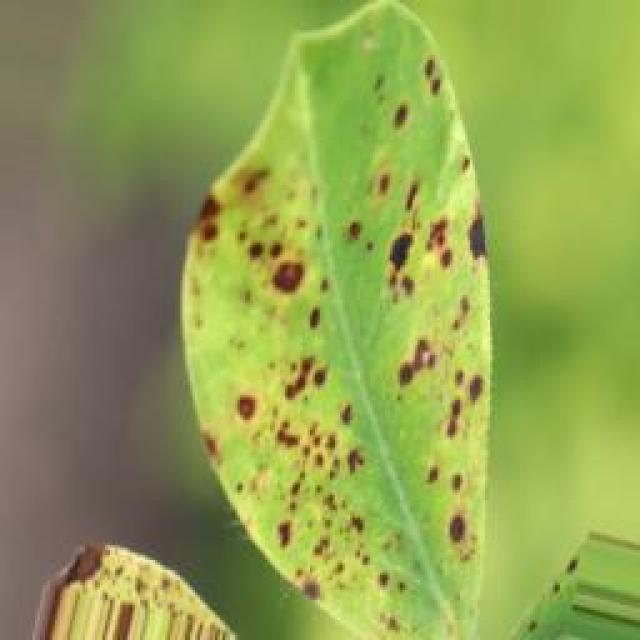Yellowish: (80, 56, 577, 623)
